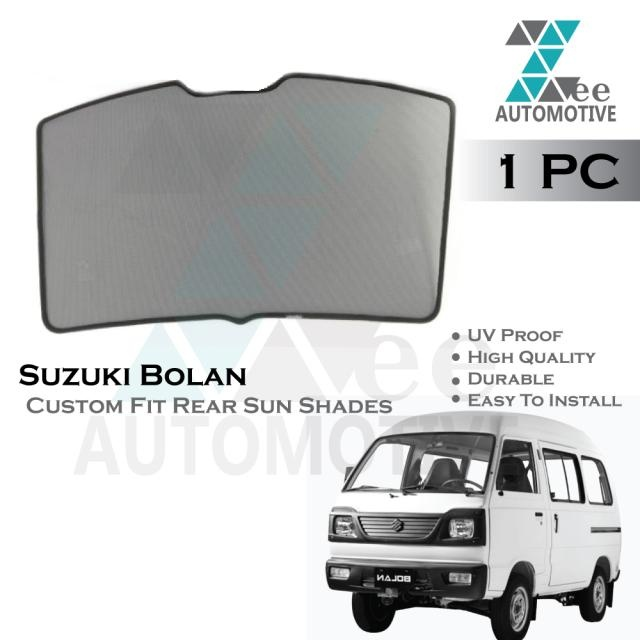Van: (323, 411, 623, 640)
